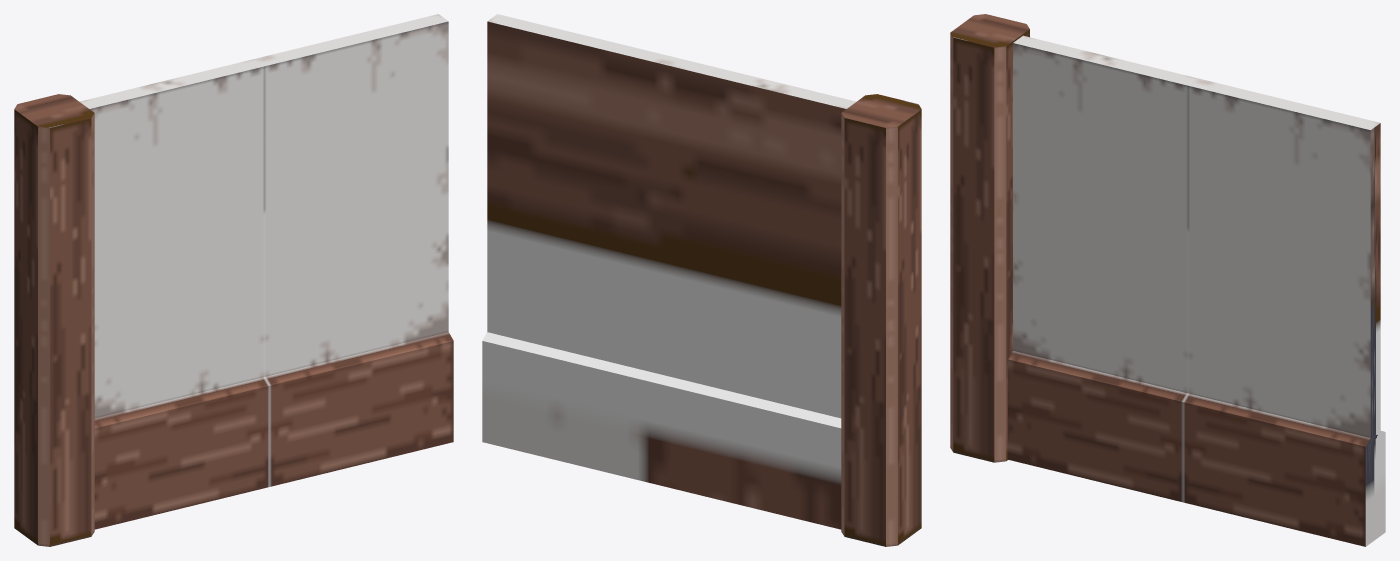
The model's file is Wall_Plain.fbx.
3 views of the same model, side by side, from view 1: azimuth 30°, elevation 25°; view 2: azimuth 150°, elevation 25°; view 3: azimuth 330°, elevation 25° (orthographic).
Visible parts, largest first — view 1: Cube.001; view 2: Cube.001; view 3: Cube.001.
Part boxes in pixels (left/top/right/bottom): Cube.001: left=14, top=14, right=453, bottom=546; Cube.001: left=482, top=14, right=921, bottom=546; Cube.001: left=950, top=14, right=1385, bottom=546.
Bounding box in the file's own units: 316 × 303 × 42.73.
